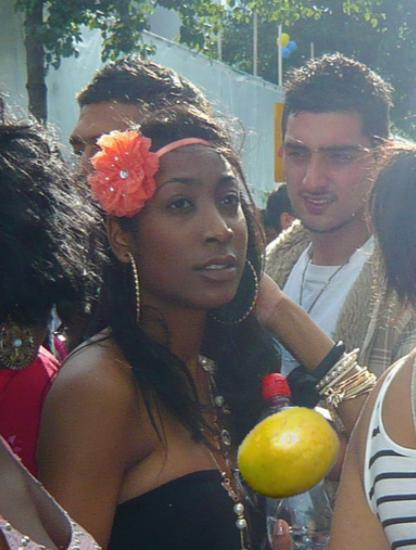Maracuja: (233, 400, 343, 510)
